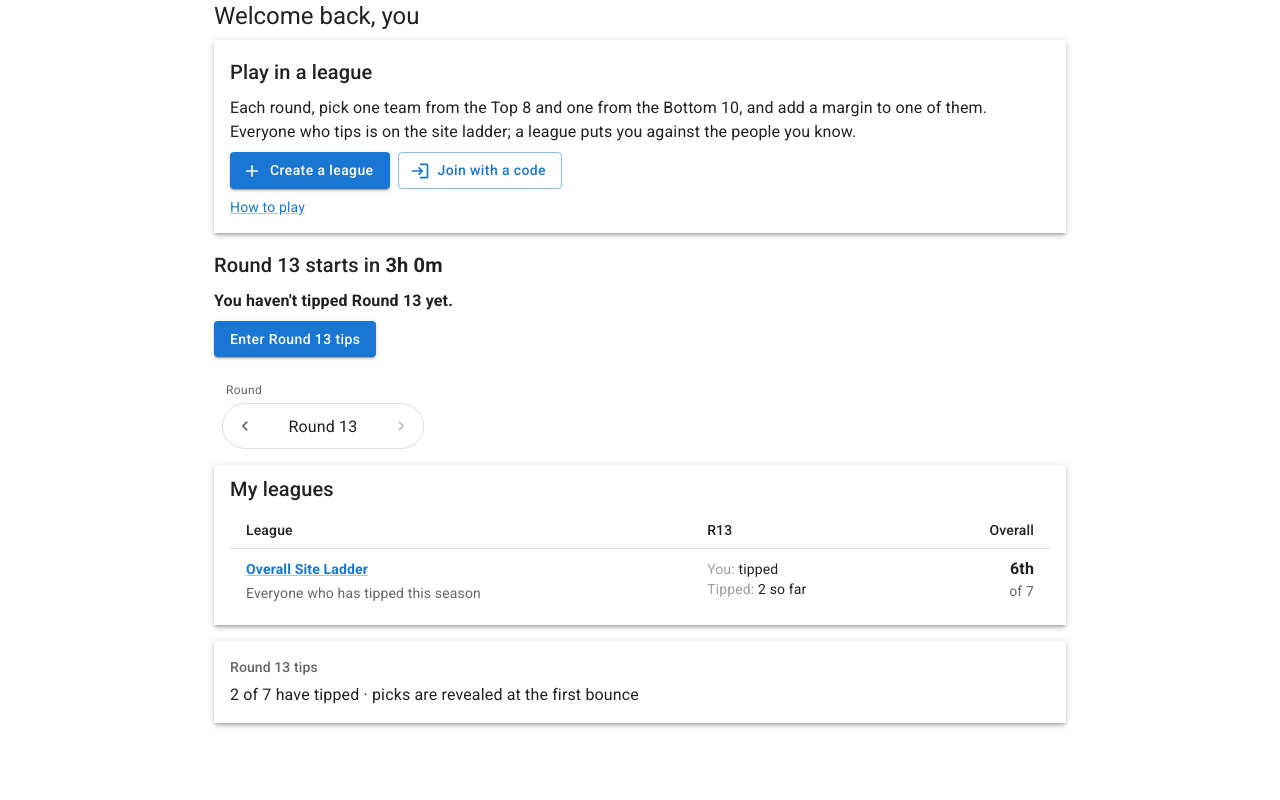
Test case: finding a league › joining one from here brings it into the table
Step 1. Click the button "Join with a code" → (480, 171), box [398,152,562,189]
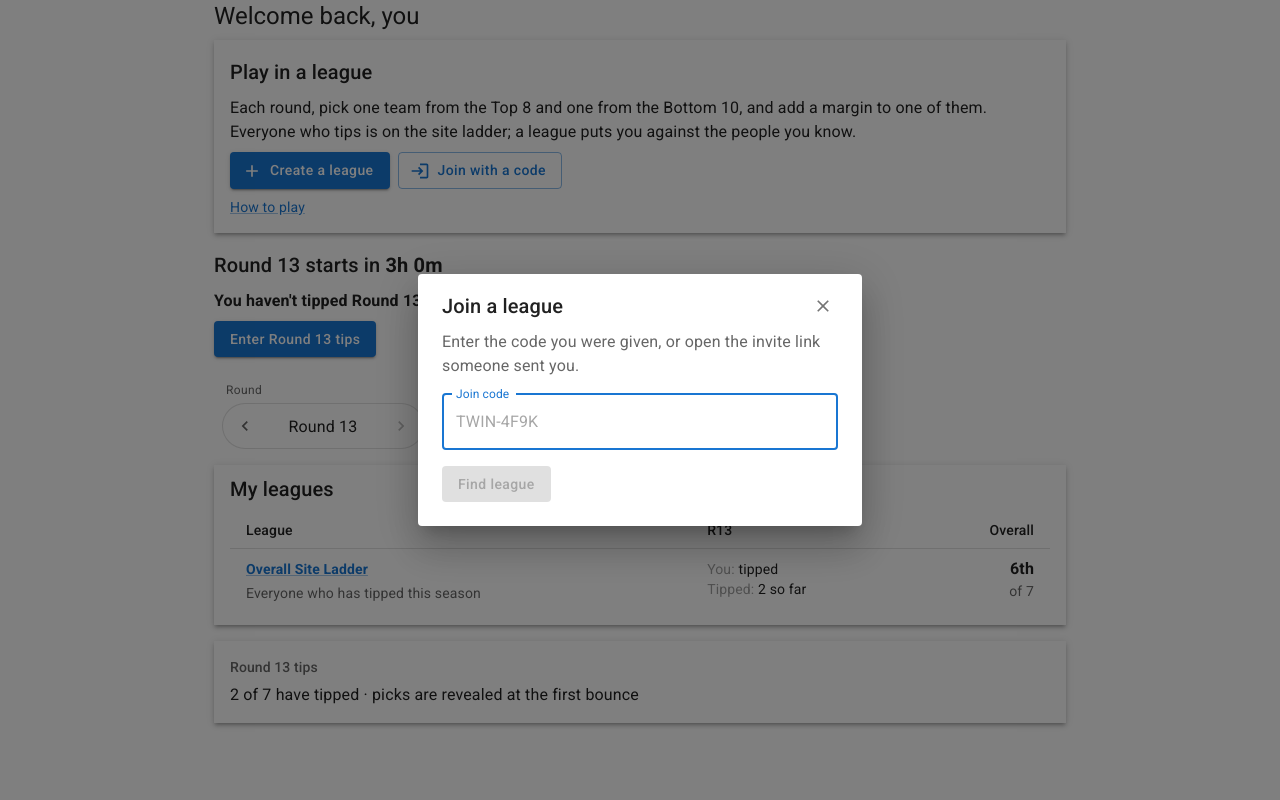
Step 2. Type "TWIN-CUXD" into the field labelled "Join code" → (640, 422), box [442,394,838,450]
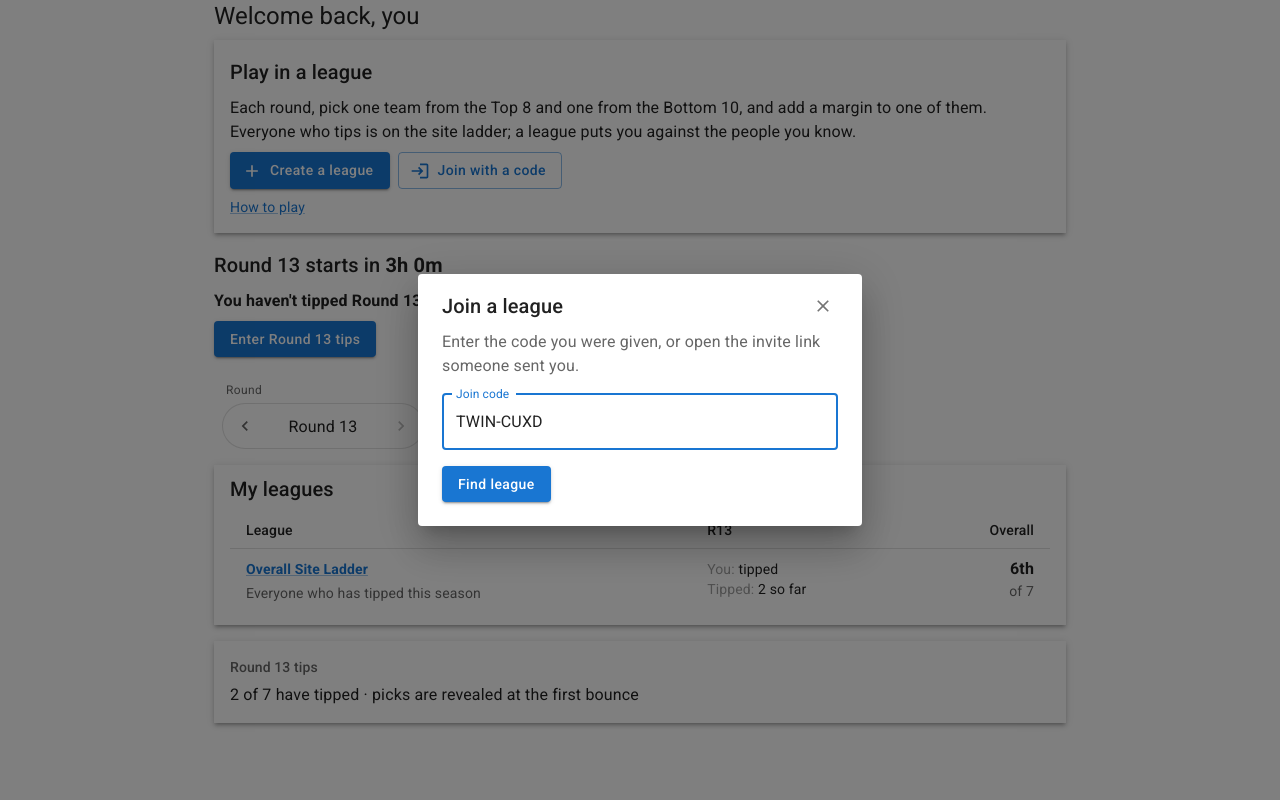
Step 3. Click the button "Find league" → (496, 484), box [442,466,551,502]
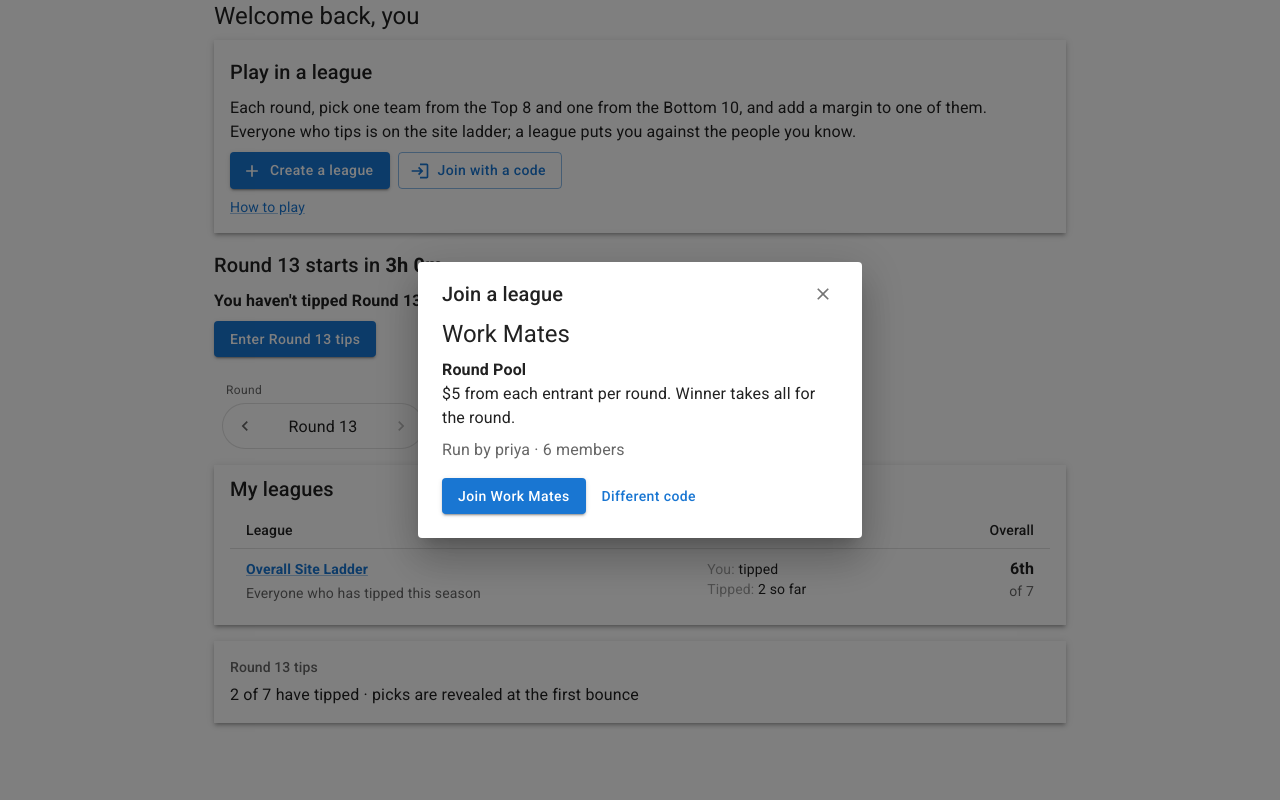
Step 4. Click the button "Join Work Mates" → (514, 496), box [442,478,586,514]
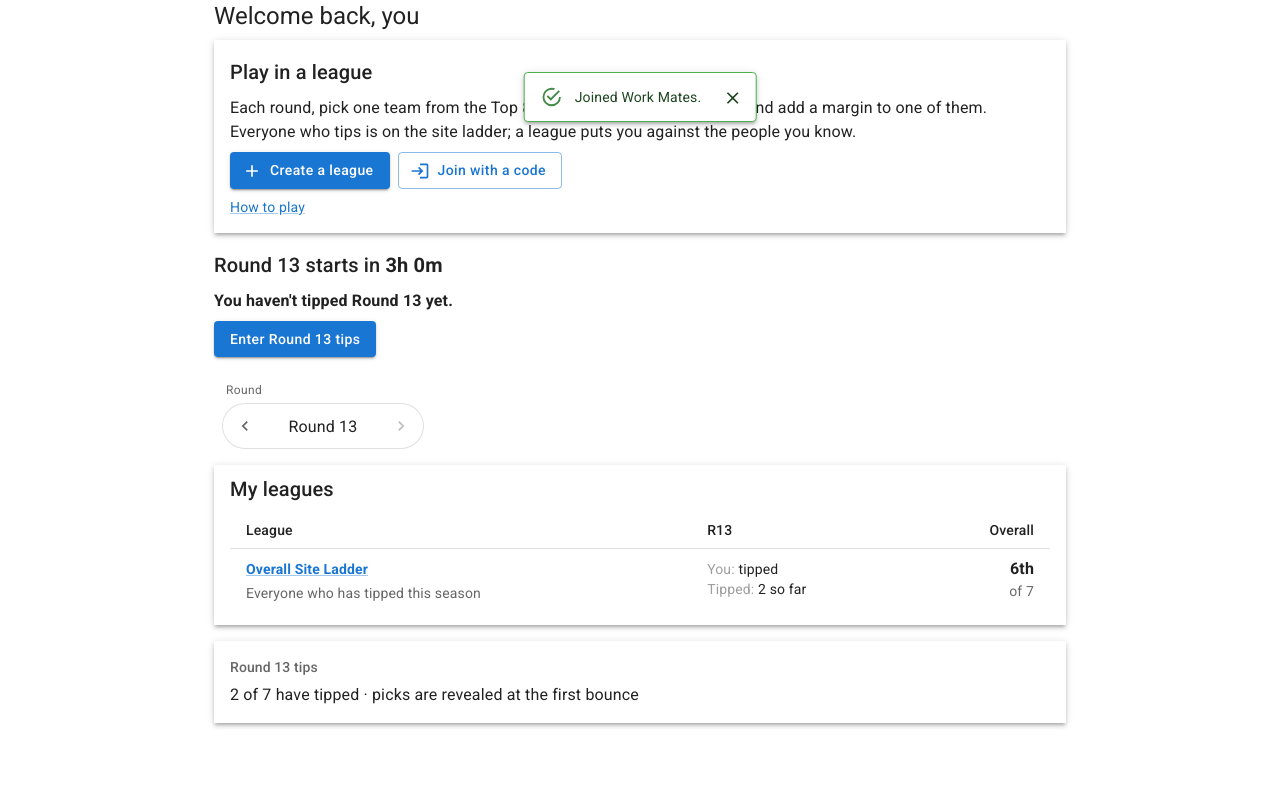
Expected: the text "Joined Work Mates." is shown, [575,89,701,105]
